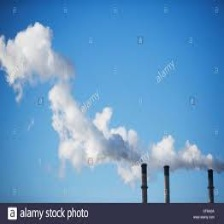smoke: (6, 29, 220, 177)
